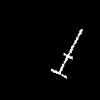double_crochet: (51, 29, 81, 77)
